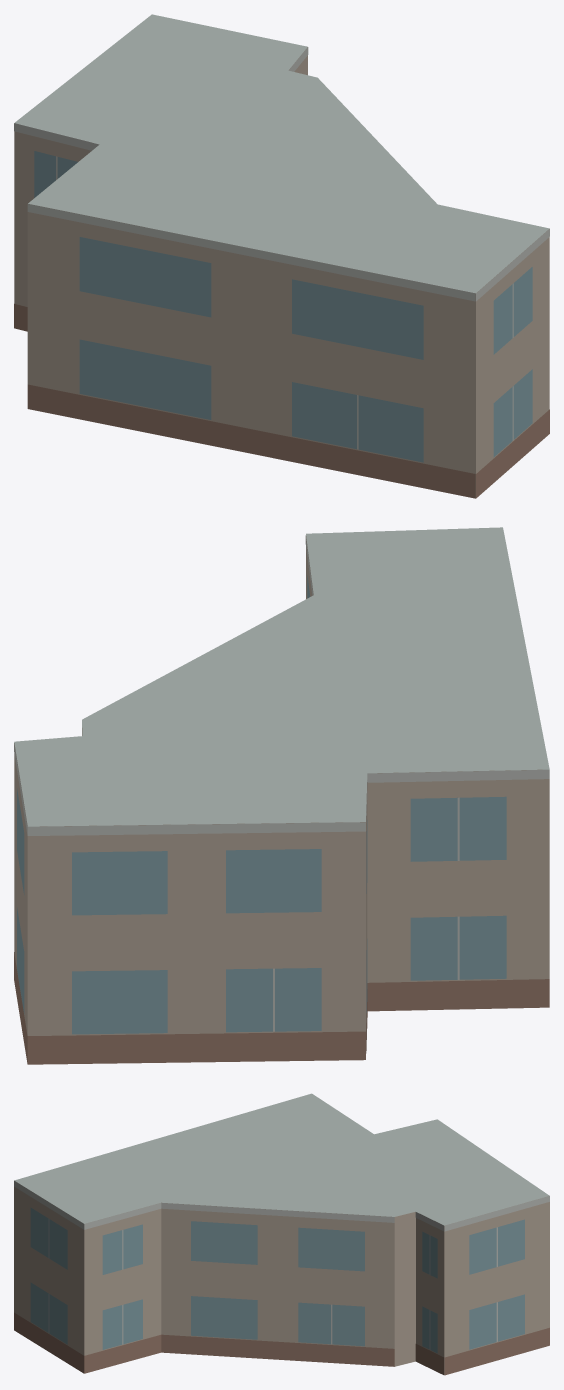
The model's file is survey-upis-32684134.glb.
3 renders of one model, top to bottom at view 1: azimuth 30°, elevation 25°; view 2: azimuth 150°, elevation 25°; view 3: azimuth 270°, elevation 25°, orthographic. The views are drawn at different scales.
Parts seen in each view (by area): view 1: survey-upis-32684134.tmp; view 2: survey-upis-32684134.tmp; view 3: survey-upis-32684134.tmp.
Boxes of the visible parts, box(x1,y1,x2,y2) form: survey-upis-32684134.tmp: box(14, 14, 549, 498); survey-upis-32684134.tmp: box(14, 527, 549, 1064); survey-upis-32684134.tmp: box(14, 1093, 549, 1375).
Bounding box in the file's own units: 11.55 × 6.1 × 19.78.
